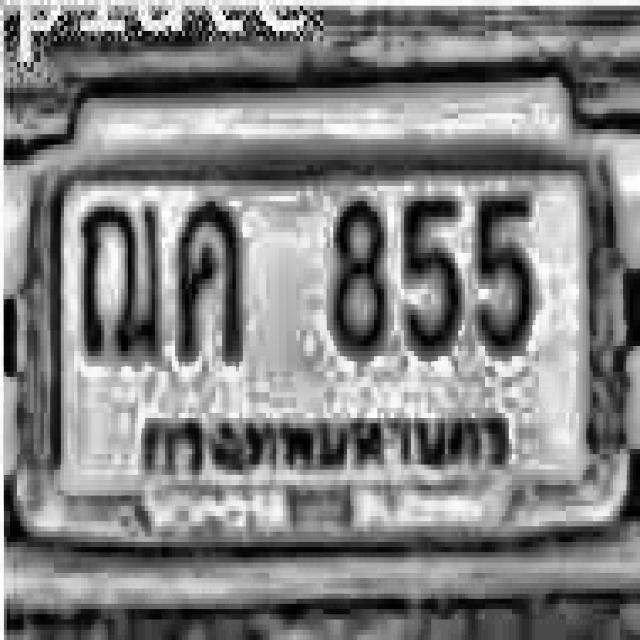license-plate: (13, 133, 634, 561)
